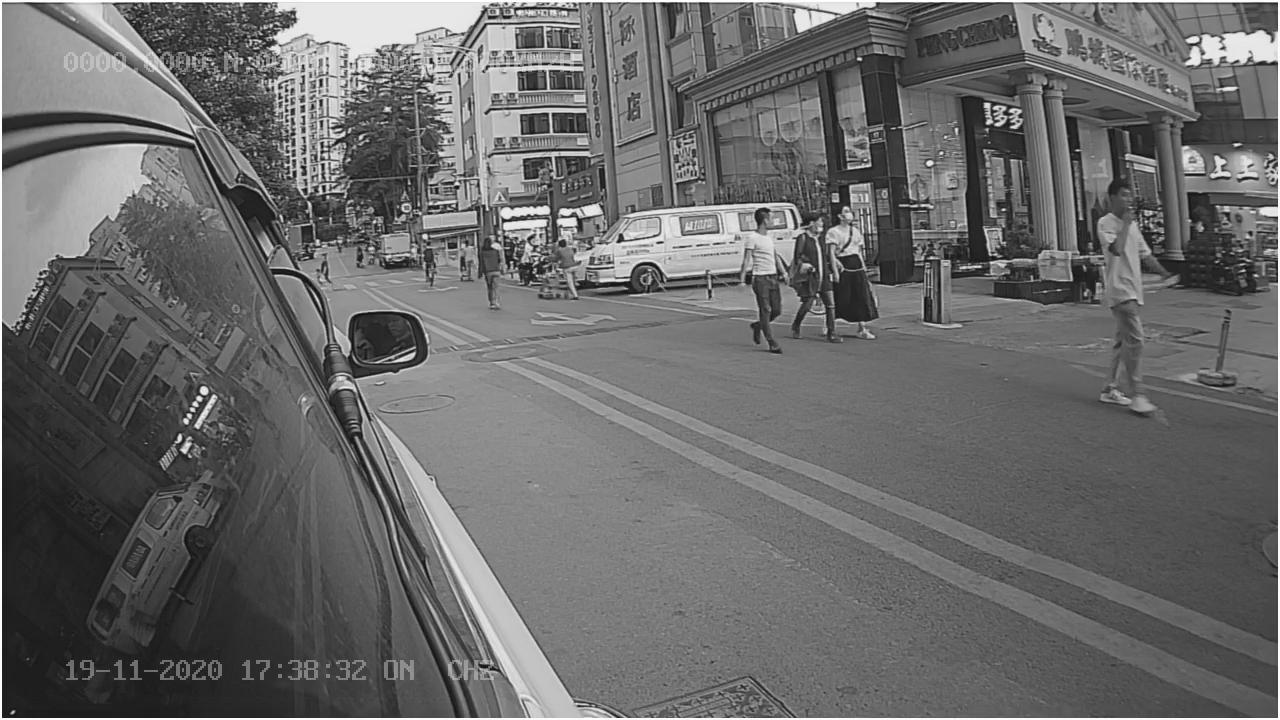person: (1088, 178, 1176, 424)
